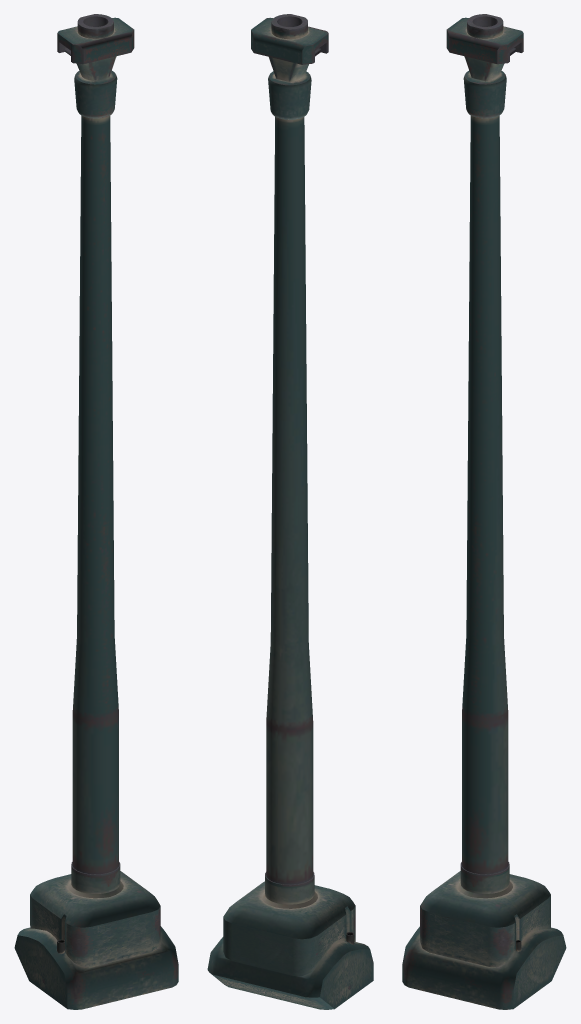
Rendered from Gun_01.glb.
The picture shows the model from 3 angles, left to right: view 1: azimuth 30°, elevation 25°; view 2: azimuth 150°, elevation 25°; view 3: azimuth 330°, elevation 25°; orthographic projection.
Visible parts, largest first — view 1: set_0_group_0; view 2: set_0_group_0; view 3: set_0_group_0.
Part boxes in pixels (box(x1,y1,x2,y2)): set_0_group_0: box(14, 14, 178, 1009); set_0_group_0: box(207, 14, 373, 1009); set_0_group_0: box(402, 14, 566, 1009).
Size of the model in its own units: 0.7252 by 5.95 by 0.6907.
1 material, 1 textured.
